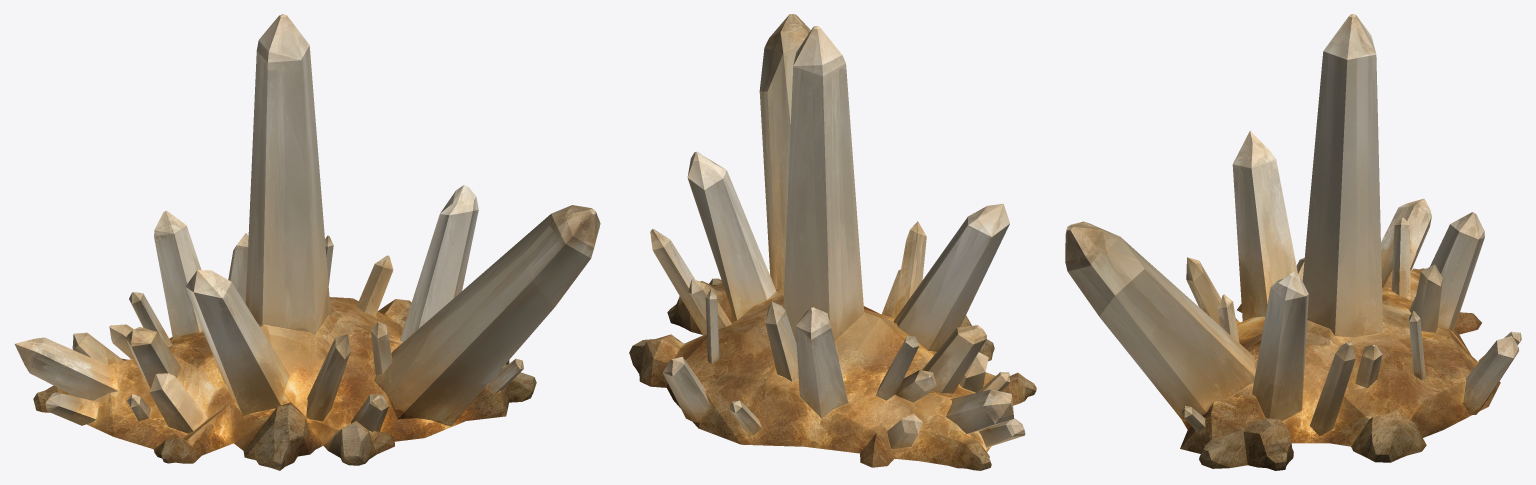
Rendered from environment_crystalFormation.fbx.
3 renders of one model, left to right at view 1: azimuth 30°, elevation 25°; view 2: azimuth 150°, elevation 25°; view 3: azimuth 270°, elevation 25°, orthographic.
Parts seen in each view (by area): view 1: environment_crystalFormation; view 2: environment_crystalFormation; view 3: environment_crystalFormation.
Boxes of the visible parts, bbox=[...] form: environment_crystalFormation: bbox=[14, 14, 600, 470]; environment_crystalFormation: bbox=[629, 14, 1036, 470]; environment_crystalFormation: bbox=[1065, 14, 1521, 470].
Bounding box in the file's own units: 450 × 380 × 426.
